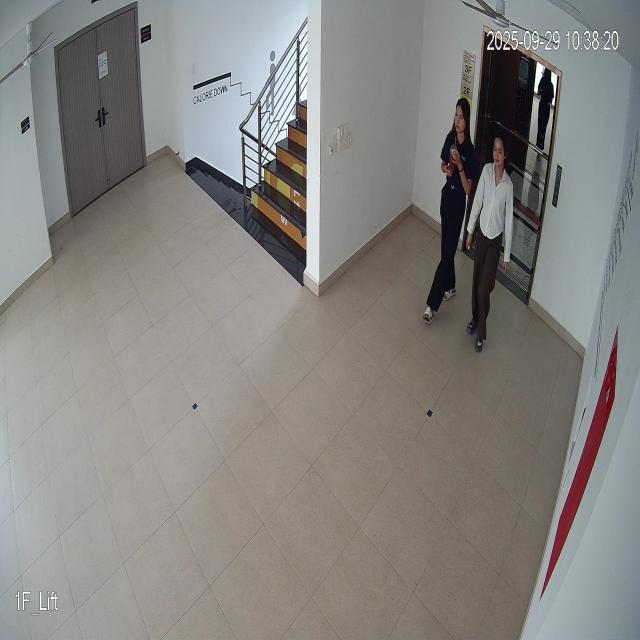face: (453, 94, 471, 136), (491, 132, 508, 172)
